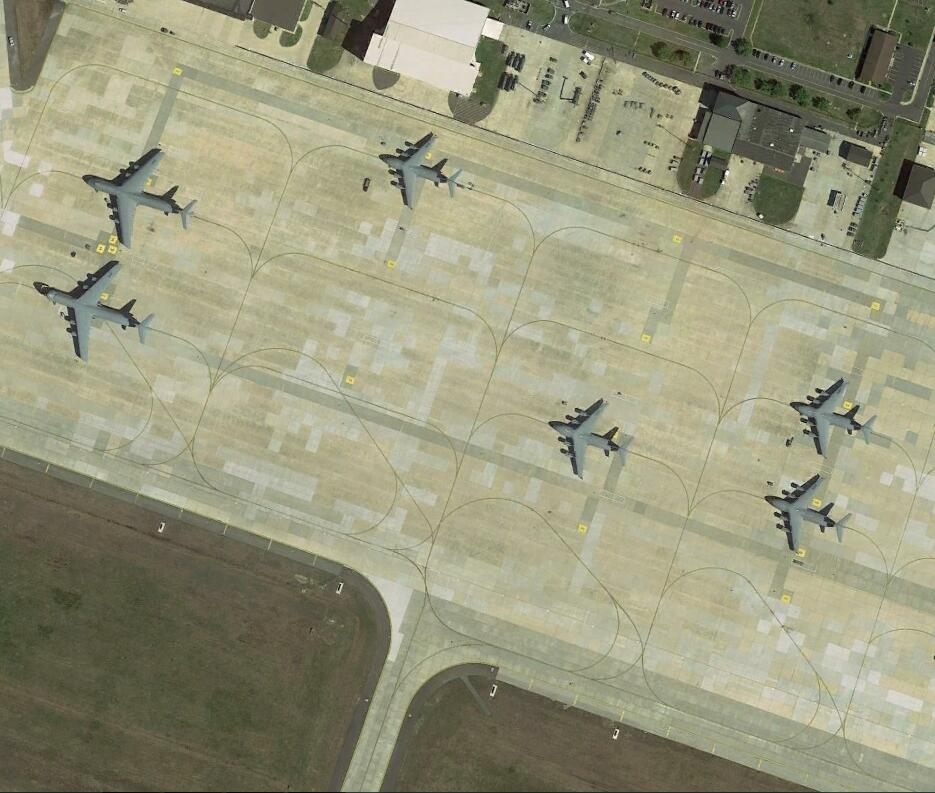A3: (765, 474, 854, 556), (791, 380, 878, 460), (379, 129, 463, 210), (547, 400, 631, 479)
A4: (84, 145, 201, 251), (41, 267, 155, 363)
